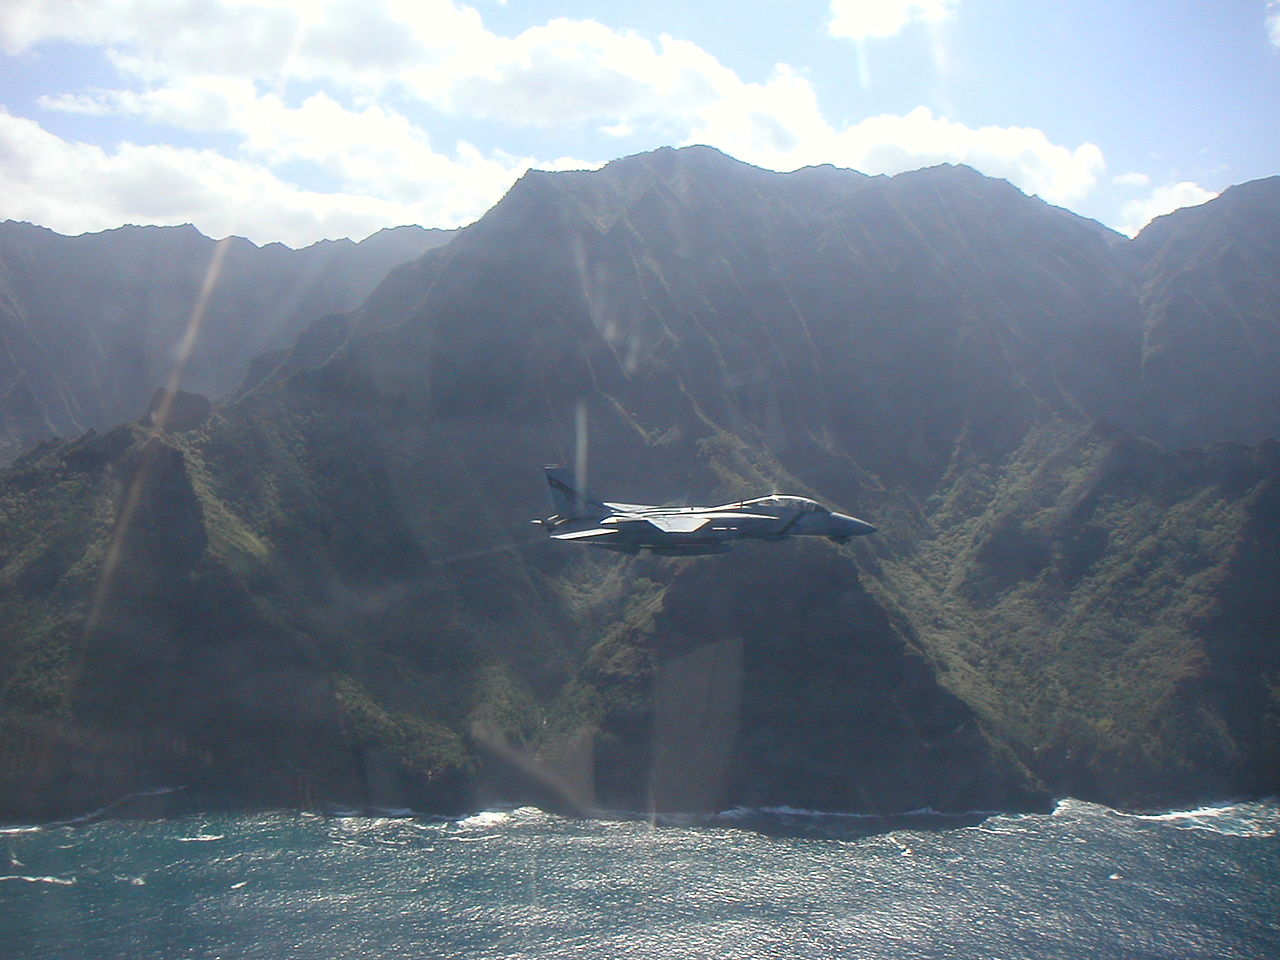F14: (529, 462, 879, 557)
